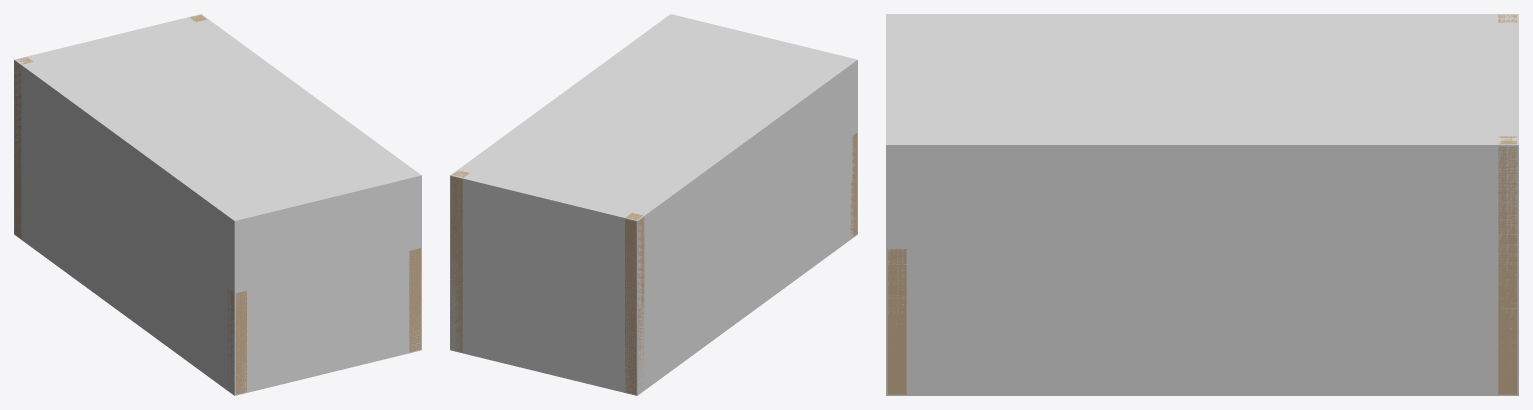
The model's file is single_bed.glb.
The picture shows the model from 3 angles, left to right: view 1: azimuth 30°, elevation 25°; view 2: azimuth 150°, elevation 25°; view 3: azimuth 270°, elevation 25°; orthographic projection. The views are drawn at different scales.
Parts seen in each view (by area): view 1: SingleBed_COL, single-bed-timber_0; view 2: SingleBed_COL, single-bed-timber_0; view 3: SingleBed_COL, single-bed-timber_0.
Boxes of the visible parts, x1=… form: SingleBed_COL: x1=14, y1=14, x2=421, y2=395; single-bed-timber_0: x1=14, y1=15, x2=420, y2=394; SingleBed_COL: x1=450, y1=14, x2=857, y2=395; single-bed-timber_0: x1=451, y1=133, x2=857, y2=394; SingleBed_COL: x1=886, y1=14, x2=1518, y2=395; single-bed-timber_0: x1=887, y1=14, x2=1517, y2=394.
Size of the model in its own units: 0.9801 by 0.875 by 2.
